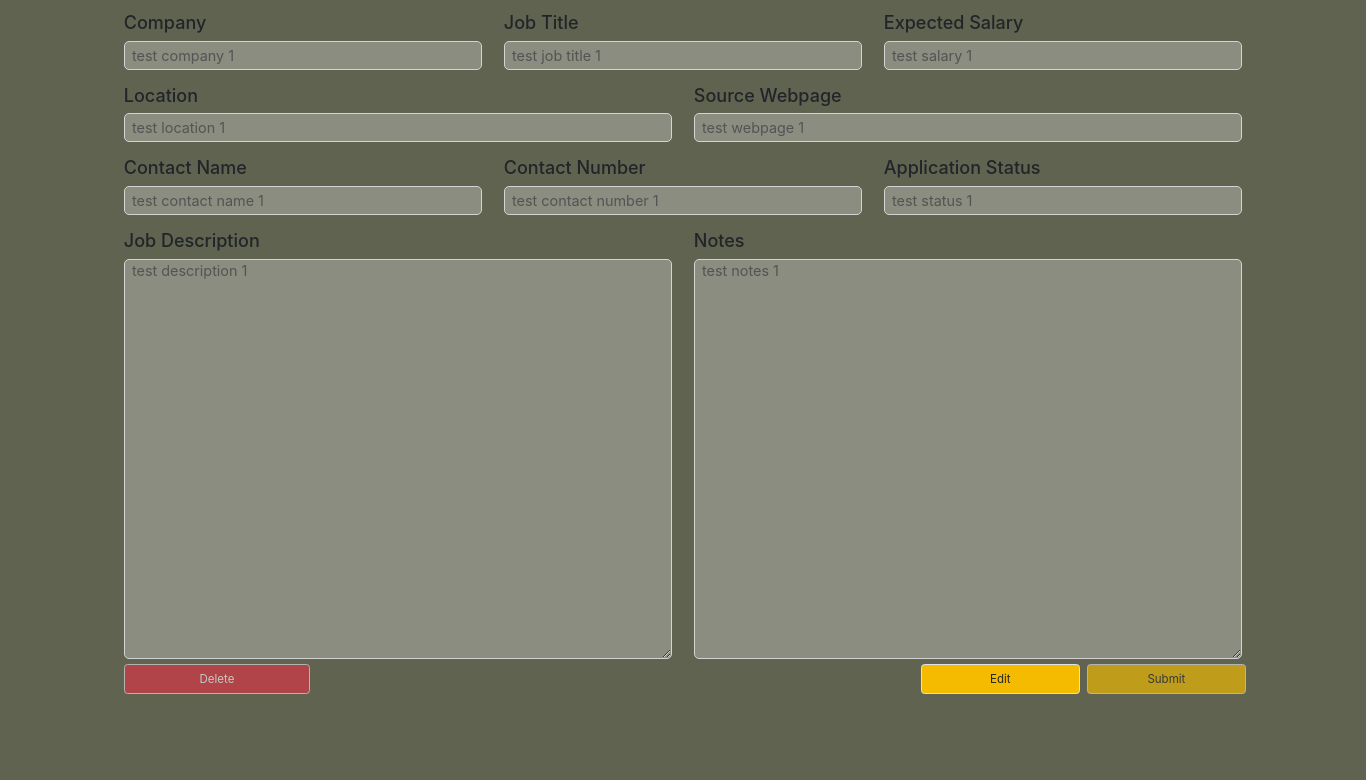
Scenario: content should be editable after edit button is clicked › company name is editable
Click the button with test id "editBtn": (1000, 679) x1=921 y1=664 x2=1080 y2=694
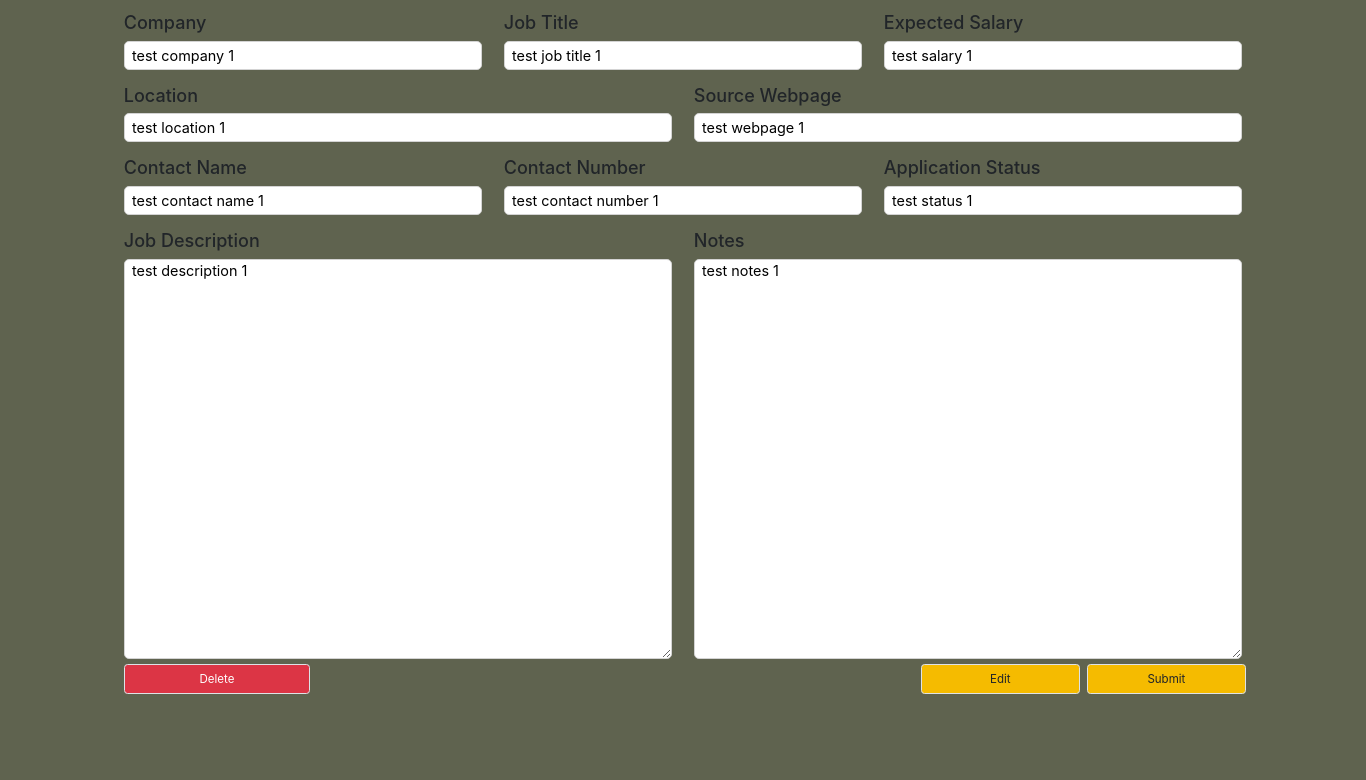
Expected: the field with test id "company" is enabled, x1=124 y1=41 x2=482 y2=70
